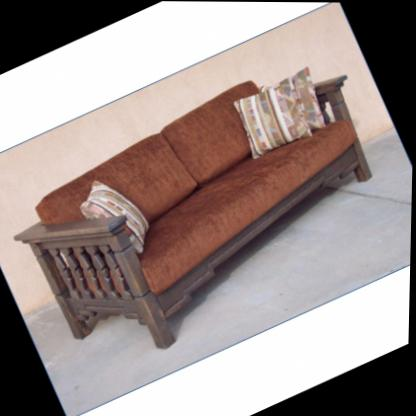Sofa: (0, 38, 415, 388)
